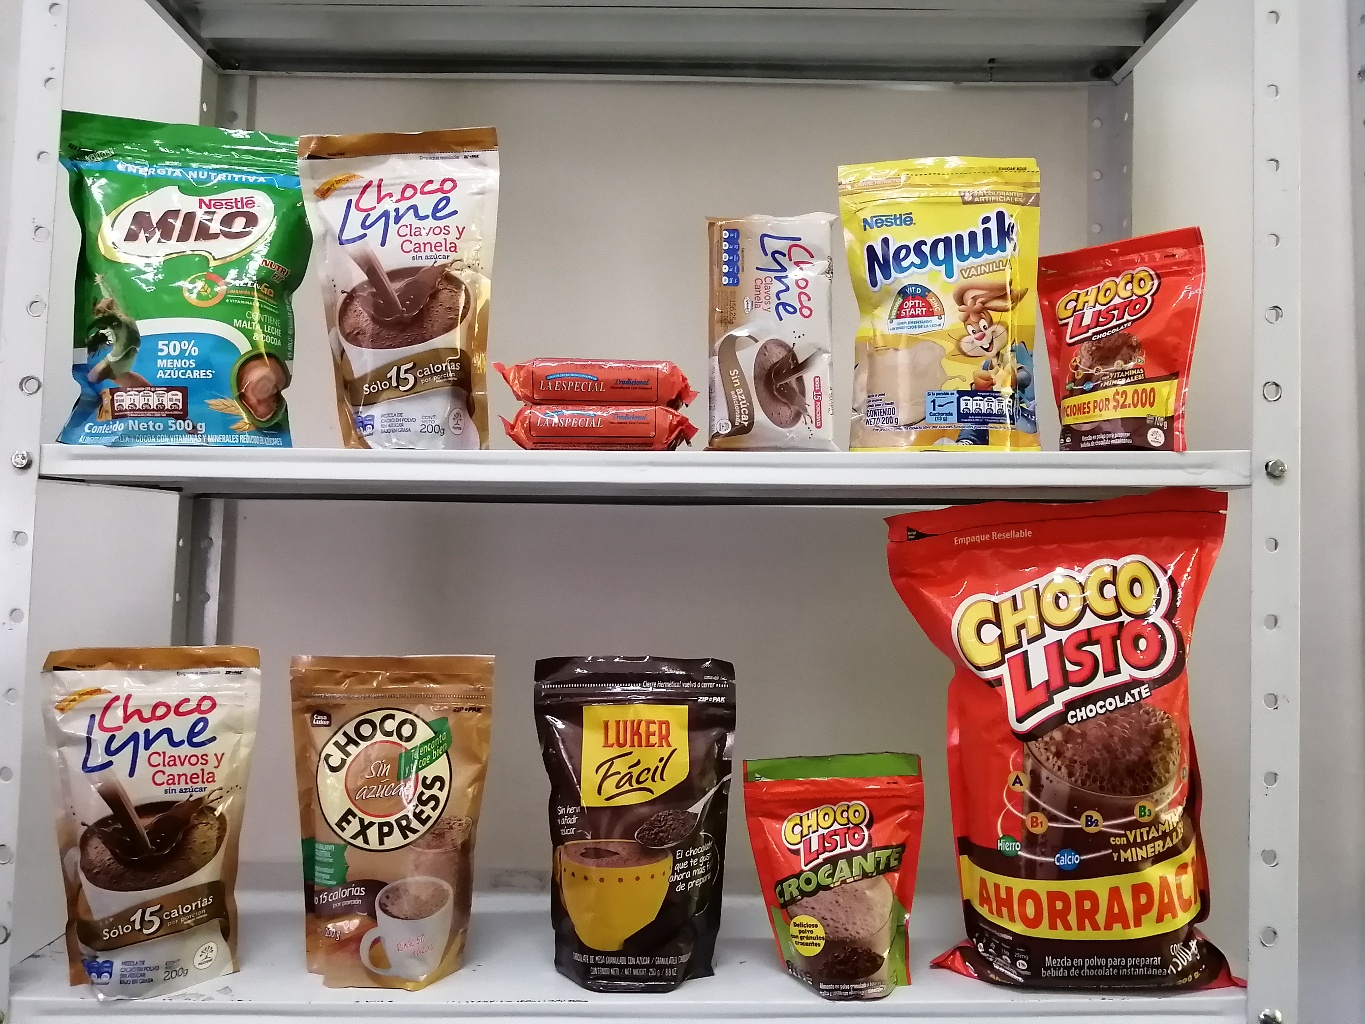COL0170102DYP10000: (736, 748, 929, 999)
COL0170103DYP1,500: (882, 479, 1245, 991)
COL0170205DYP50000: (53, 88, 307, 447)
COL0170306DYP20000: (850, 142, 1048, 447)
